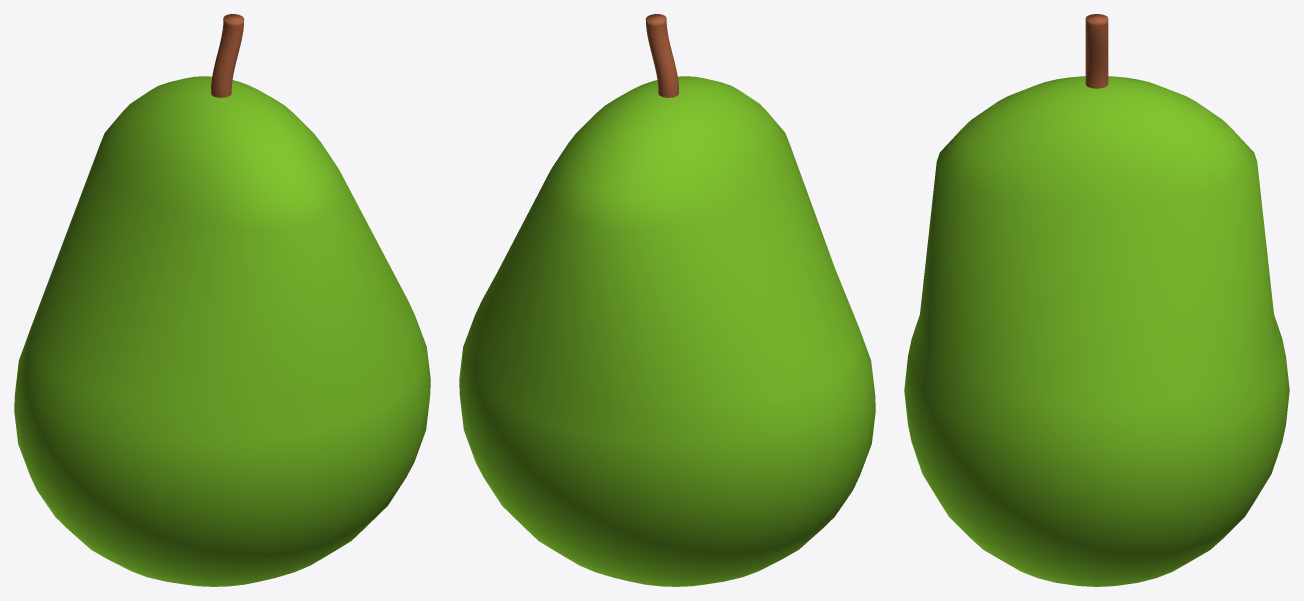
File: Pera.fbx
3 renders of one model, left to right at view 1: azimuth 30°, elevation 25°; view 2: azimuth 150°, elevation 25°; view 3: azimuth 270°, elevation 25°, orthographic.
Parts seen in each view (by area): view 1: Pera; view 2: Pera; view 3: Pera.
Boxes of the visible parts, x1,y1,x2,y2 form: Pera: [14, 14, 430, 586]; Pera: [459, 14, 875, 586]; Pera: [904, 14, 1289, 586].
Size of the model in its own units: 116 by 163 by 103.
